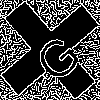G: (25, 25, 85, 86)
